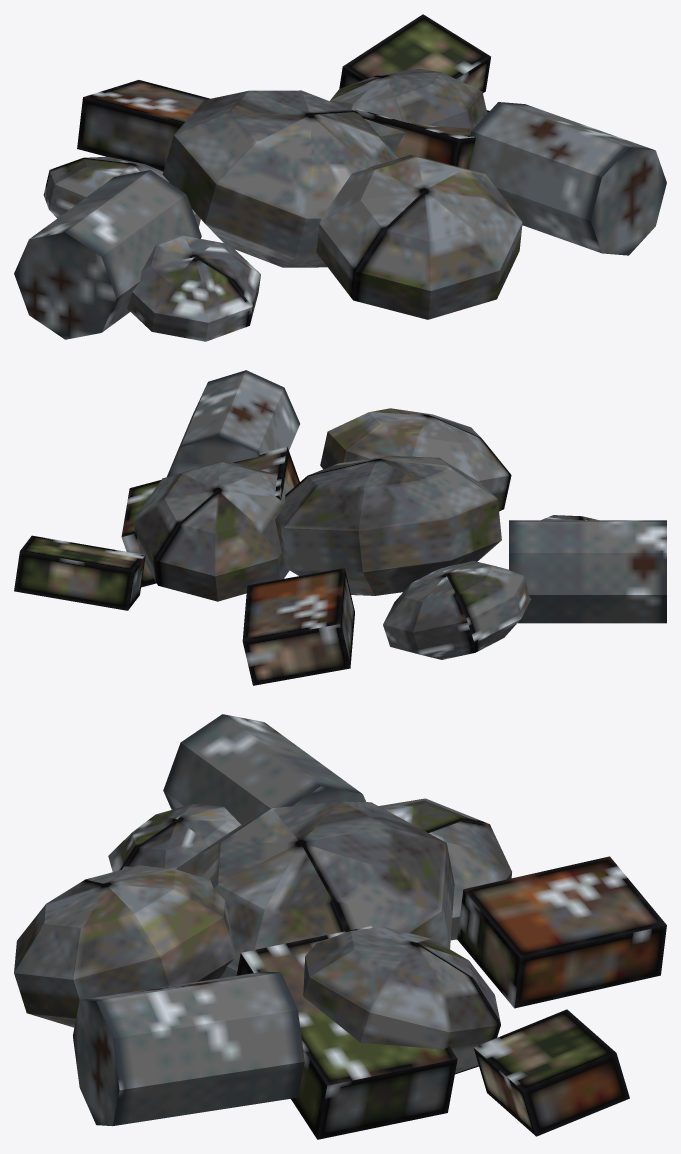
File: SM_Trash_Pile_01.fbx
3 renders of one model, top to bottom at view 1: azimuth 30°, elevation 25°; view 2: azimuth 150°, elevation 25°; view 3: azimuth 270°, elevation 25°, orthographic. The views are drawn at different scales.
Parts seen in each view (by area): view 1: SM_Trash_Pile_01; view 2: SM_Trash_Pile_01; view 3: SM_Trash_Pile_01.
Part boxes in pixels (bbox=[...]): SM_Trash_Pile_01: bbox=[14, 14, 666, 341]; SM_Trash_Pile_01: bbox=[14, 370, 666, 685]; SM_Trash_Pile_01: bbox=[14, 714, 666, 1139].
Bounding box in the file's own units: 0.3749 × 0.0889 × 0.3148.
Materials: 1 (1 with a texture image).
